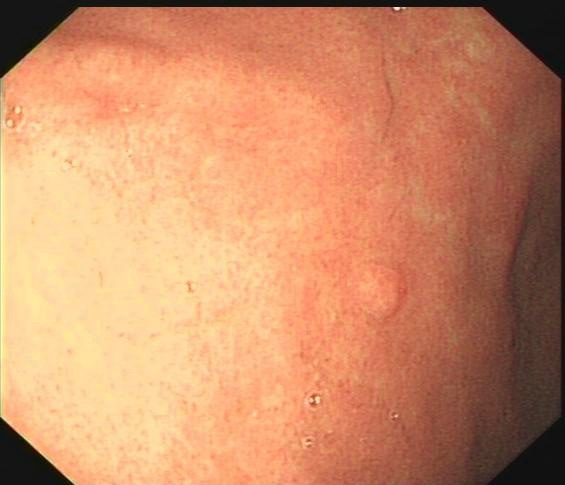Polyp: (330, 250, 417, 347)
